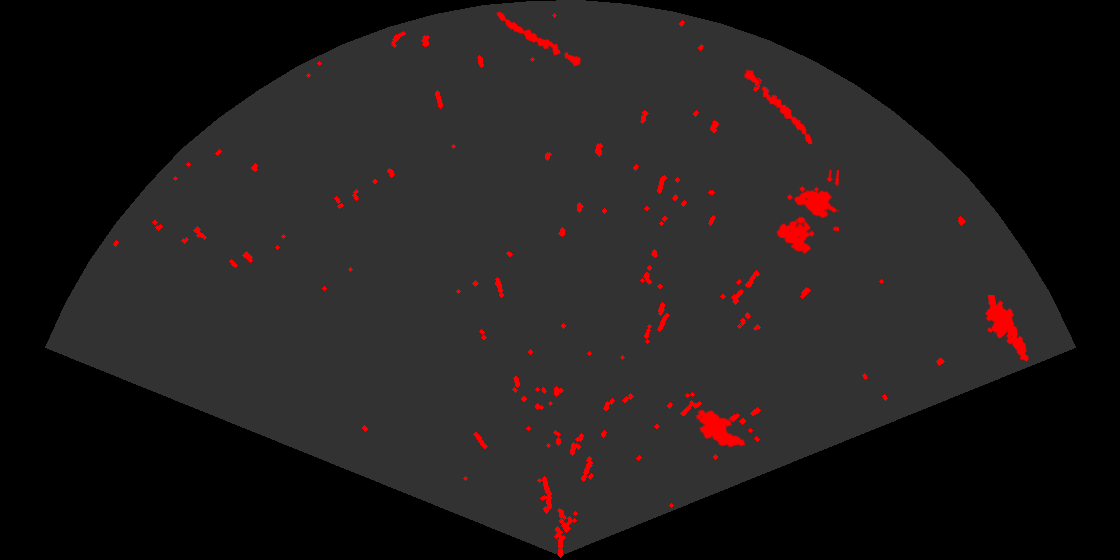AUV: (694, 408, 747, 449)
cage: (775, 170, 839, 256)
chain: (743, 69, 814, 146), (495, 10, 583, 68)
frogman: (984, 295, 1030, 363)
